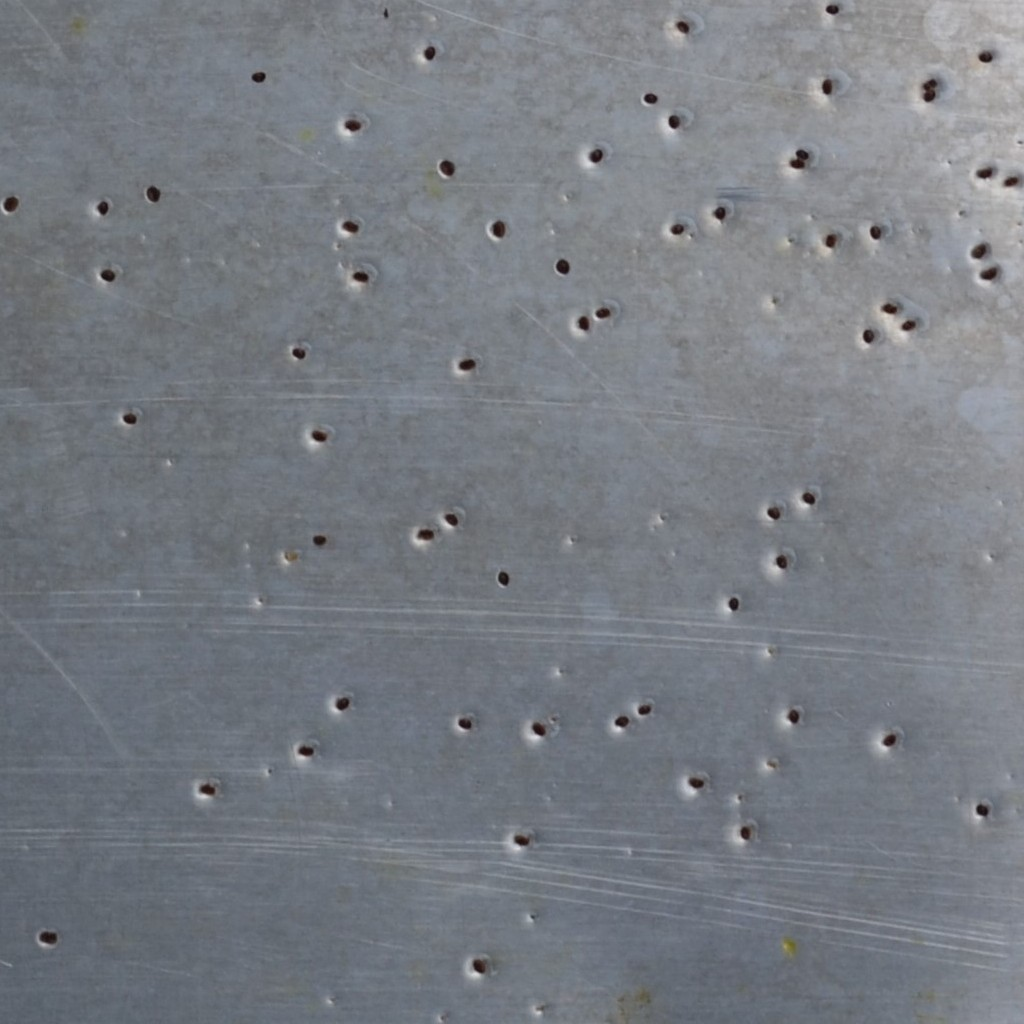varroa: (468, 952, 489, 977), (36, 926, 59, 948), (436, 157, 457, 179), (307, 425, 330, 445), (196, 779, 219, 799), (1, 190, 19, 215), (333, 690, 351, 714), (512, 829, 533, 849), (295, 740, 317, 759), (454, 712, 474, 732), (145, 183, 164, 203), (98, 265, 118, 284), (119, 408, 140, 426), (967, 243, 989, 260), (489, 217, 506, 239), (310, 527, 329, 546), (673, 17, 693, 35), (553, 257, 571, 277), (530, 718, 548, 738), (726, 594, 743, 615), (338, 217, 359, 234), (457, 356, 478, 373), (413, 526, 435, 542), (900, 317, 918, 336), (586, 146, 604, 165), (343, 115, 362, 133), (687, 774, 707, 791), (443, 509, 460, 529), (612, 712, 630, 730), (978, 265, 997, 282), (881, 731, 898, 750), (635, 700, 654, 717), (975, 48, 995, 64), (974, 166, 994, 182), (785, 707, 802, 725), (669, 219, 687, 236), (351, 266, 369, 283), (861, 327, 877, 346), (823, 230, 839, 249), (289, 345, 308, 361), (879, 301, 899, 316), (421, 43, 436, 63), (713, 203, 727, 224), (975, 802, 991, 820), (773, 551, 789, 569), (593, 304, 611, 320), (250, 68, 268, 84), (867, 222, 882, 241), (788, 157, 807, 172), (667, 113, 682, 132), (922, 87, 939, 103), (765, 504, 781, 521), (737, 823, 753, 840), (642, 89, 659, 105), (819, 77, 834, 95), (95, 196, 110, 214), (577, 314, 591, 333), (793, 146, 811, 160), (801, 489, 815, 507), (496, 569, 510, 587), (921, 76, 940, 89), (1002, 175, 1019, 189), (823, 3, 841, 15)
